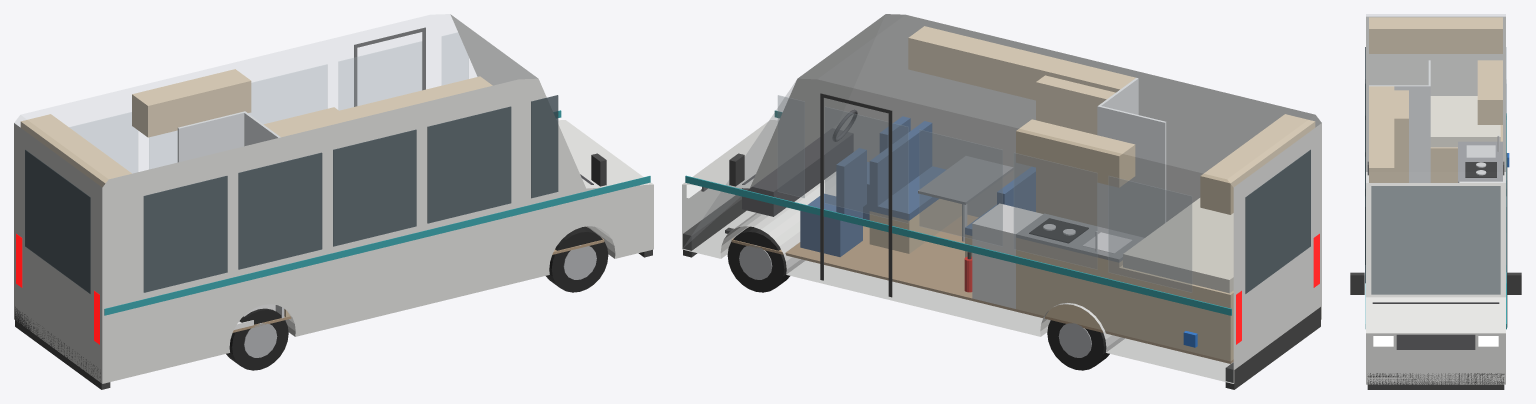
File: force_traveller_4020wb.glb
3 renders of one model, left to right at view 1: azimuth 30°, elevation 25°; view 2: azimuth 150°, elevation 25°; view 3: azimuth 270°, elevation 25°, orthographic. The views are drawn at different scales.
Parts seen in each view (by area): view 1: Body_Shell, Body_Cutaway_LeftWall_Roof, Window_Right_2, Window_Right_0, Window_Right_3, Window_Right_1, Window_Rear, Storage_Overhead_Left_Kitchen, Stripe_Right, Window_Left_0, Window_Left_1, Storage_Overhead_Rear (+12 smaller); view 2: Body_Cutaway_LeftWall_Roof, Body_Shell, Window_Left_2, Window_Left_3, Window_Left_1, Storage_Overhead_Right, Window_Left_0, Bed_Platform_Fixed_Rear, Kitchen_Base_Cabinets, Floor_Living, Bed_Mattress_Double, WetRoom_Wall_Side (+28 smaller); view 3: Body_Shell, Body_Cutaway_LeftWall_Roof, Windscreen, Storage_Overhead_Rear, Bed_Mattress_Double, Storage_Overhead_Right, WetRoom_Wall_Front, Bumper_Front, Storage_Overhead_Left_Kitchen, Storage_Wardrobe_Tall, Grille, Bed_Platform_Fixed_Rear (+11 smaller).
Part boxes in pixels (x1,y1,x2,y2): Body_Shell: [14, 14, 653, 383]; Body_Cutaway_LeftWall_Roof: [14, 14, 536, 186]; Window_Right_2: [238, 152, 322, 269]; Window_Right_0: [427, 106, 511, 223]; Window_Right_3: [143, 176, 227, 292]; Window_Right_1: [333, 129, 416, 246]; Window_Rear: [25, 149, 90, 293]; Storage_Overhead_Left_Kitchen: [132, 69, 251, 137]; Stripe_Right: [104, 176, 650, 315]; Window_Left_0: [338, 41, 421, 110]; Window_Left_1: [249, 64, 327, 123]; Storage_Overhead_Rear: [20, 114, 131, 187]; Body_Cutaway_LeftWall_Roof: [682, 14, 1320, 382]; Body_Shell: [682, 14, 1321, 383]; Window_Left_2: [1014, 153, 1097, 269]; Window_Left_3: [1108, 176, 1191, 292]; Window_Left_1: [919, 130, 1002, 246]; Storage_Overhead_Right: [908, 26, 1135, 100]; Window_Left_0: [825, 106, 908, 223]; Bed_Platform_Fixed_Rear: [1119, 265, 1233, 361]; Kitchen_Base_Cabinets: [1016, 237, 1122, 334]; Floor_Living: [731, 215, 1233, 363]; Bed_Mattress_Double: [1123, 198, 1233, 293]; WetRoom_Wall_Side: [1097, 106, 1166, 237]; Body_Shell: [1366, 16, 1505, 384]; Body_Cutaway_LeftWall_Roof: [1366, 14, 1505, 182]; Windscreen: [1371, 186, 1500, 294]; Storage_Overhead_Rear: [1369, 17, 1502, 53]; Bed_Mattress_Double: [1430, 96, 1500, 147]; Storage_Overhead_Right: [1369, 86, 1394, 182]; WetRoom_Wall_Front: [1369, 85, 1430, 182]; Bumper_Front: [1367, 373, 1504, 389]; Storage_Overhead_Left_Kitchen: [1477, 60, 1502, 124]; Storage_Wardrobe_Tall: [1394, 90, 1408, 182]; Grille: [1396, 334, 1475, 349]; Bed_Platform_Fixed_Rear: [1430, 125, 1502, 182].
Size of the model in its own units: 6.95 by 2.76 by 2.37.
